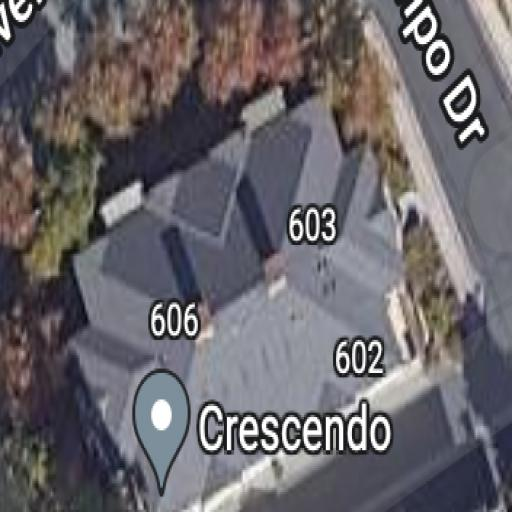Slope-Roof: (73, 94, 405, 512)
